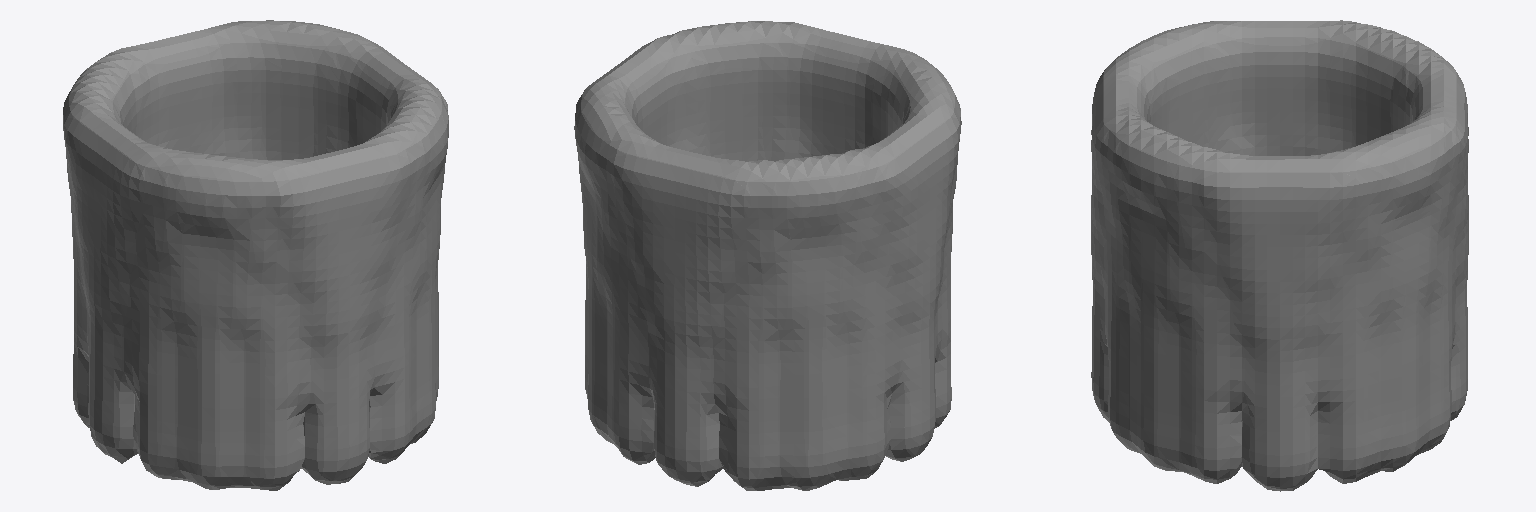
robot.urdf — cube.urdf:
<?xml version="0.0" ?> 
<robot name="cube.urdf"> 
<link name="legobrick"> 
<contact> 
<lateral_friction value="5.0"/> 
<rolling_friction value="0.0"/> 
<contact_cfm value="0.0"/> 
<contact_erp value="1.0"/> 
</contact> 
<inertial> 
<origin rpy="0 0 0" xyz="0.0 0.0 0.0"/> 
<mass value=".01"/> 
<inertia ixx="1" ixy="0" ixz="0" iyy="1" iyz="0" izz="1"/> 
</inertial> 
<visual> 
<origin rpy="1.570796 0 0" xyz="-0.02582771265157842 0.02587090691104068 -0.026131684557869683"/> 
<geometry> 
<mesh filename="J09_1.obj" scale="0.0006891988293395203 0.0006891988293395203 0.0006891988293395203"/> 
</geometry> 
<material name="yellow"> 
<color rgba="0.6 0.6 0.6 1"/> 
</material> 
</visual> 
<collision> 
<origin rpy="1.570796 0 0" xyz="-0.02582771265157842 0.02587090691104068 -0.026131684557869683"/> 
<geometry> 
<mesh filename="J09_1.obj" scale="0.0006891988293395203 0.0006891988293395203 0.0006891988293395203"/> 
</geometry> 
</collision> 
</link> 
</robot>

--- What the picture shows (computed from the rendered views, not written in the file) ---
The picture shows the robot from 3 angles, left to right: view 1: azimuth 30°, elevation 25°; view 2: azimuth 150°, elevation 25°; view 3: azimuth 270°, elevation 25°; orthographic projection.
Model cube.urdf with 1 links and 0 joints (none), rooted at legobrick, posed all joints at 0.
Links seen in each view (by area): view 1: legobrick; view 2: legobrick; view 3: legobrick.
Link boxes in pixels (<box>): legobrick: <box>63,20,448,490</box>; legobrick: <box>574,21,961,490</box>; legobrick: <box>1091,20,1468,491</box>.
Size in the robot's own frame: 0.056 by 0.056 by 0.0551 metres.
1 mesh visuals loaded from 1 distinct referenced files (1 OBJ).
